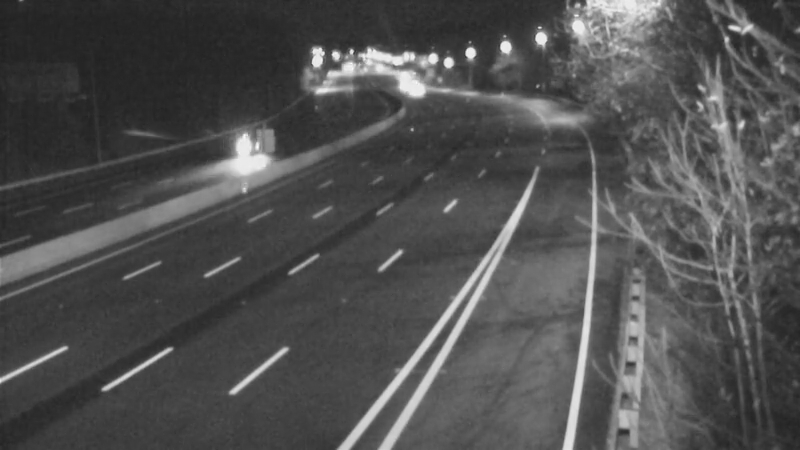vehicle: (204, 111, 284, 191), (386, 64, 436, 114)
